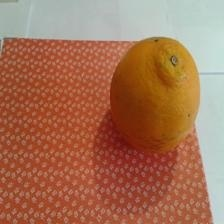orange: (22, 52, 177, 212)
